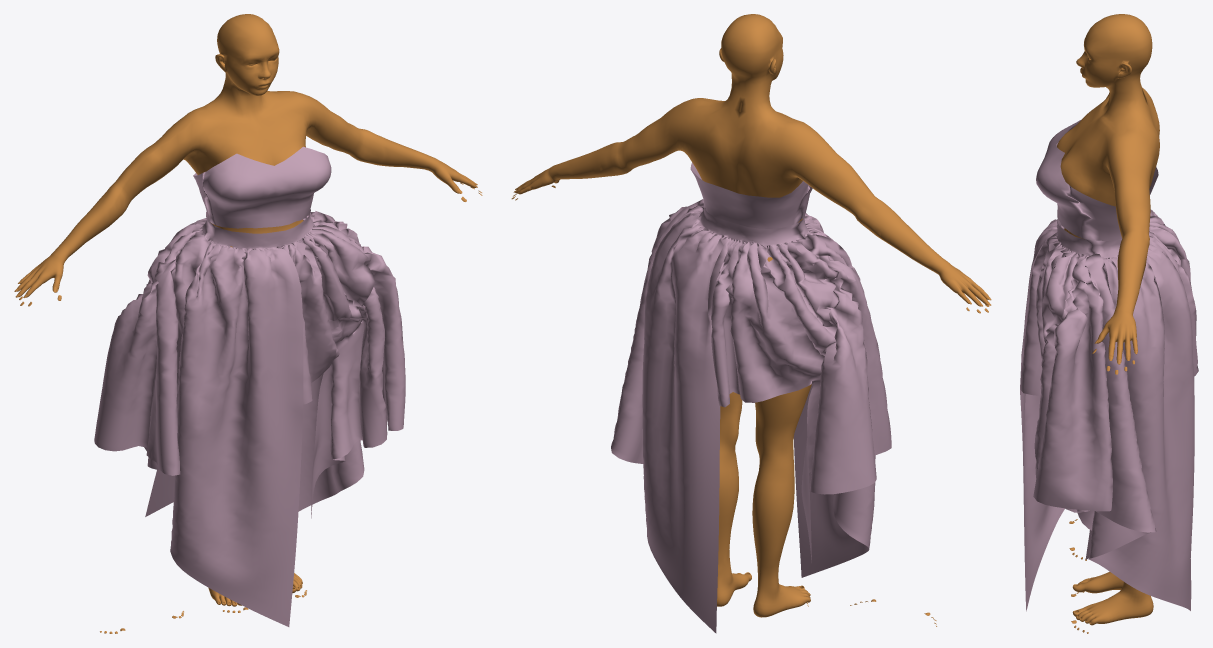
File: dress8.glb
3 renders of one model, left to right at view 1: azimuth 30°, elevation 25°; view 2: azimuth 150°, elevation 25°; view 3: azimuth 270°, elevation 25°, orthographic. The views are drawn at different scales.
Parts seen in each view (by area): view 1: Project 1, Body.003; view 2: Project 1, Body.003; view 3: Project 1, Body.003.
Part boxes in pixels (box(x1,y1,x2,y2)): Project 1: box(94, 146, 405, 626); Body.003: box(16, 14, 477, 606); Project 1: box(611, 162, 891, 633); Body.003: box(515, 14, 988, 617); Project 1: box(1020, 120, 1198, 611); Body.003: box(1057, 14, 1159, 625).
Size of the model in its own units: 1.59 by 1.88 by 0.5096.
